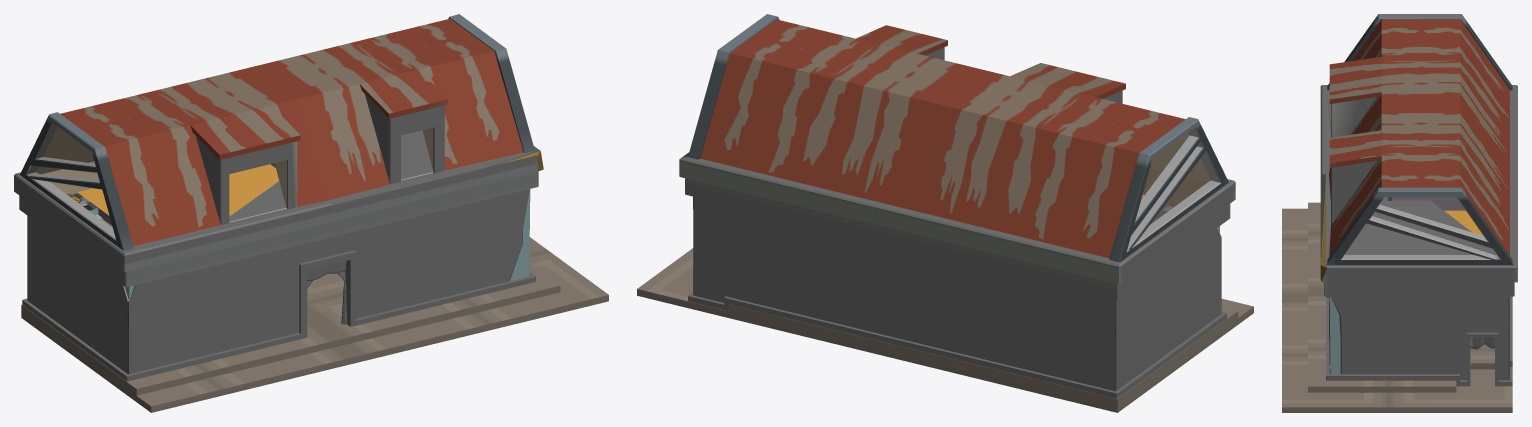
File: Temple.fbx
3 renders of one model, left to right at view 1: azimuth 30°, elevation 25°; view 2: azimuth 150°, elevation 25°; view 3: azimuth 270°, elevation 25°, orthographic. The views are drawn at different scales.
Visible parts, largest first — view 1: Temple; view 2: Temple; view 3: Temple.
Part boxes in pixels (x1=…): Temple: x1=14, y1=14, x2=608, y2=412; Temple: x1=637, y1=14, x2=1253, y2=412; Temple: x1=1282, y1=14, x2=1517, y2=412.
Size of the model in its own units: 22.24 by 10.34 by 11.05.
1 material, 1 textured.
